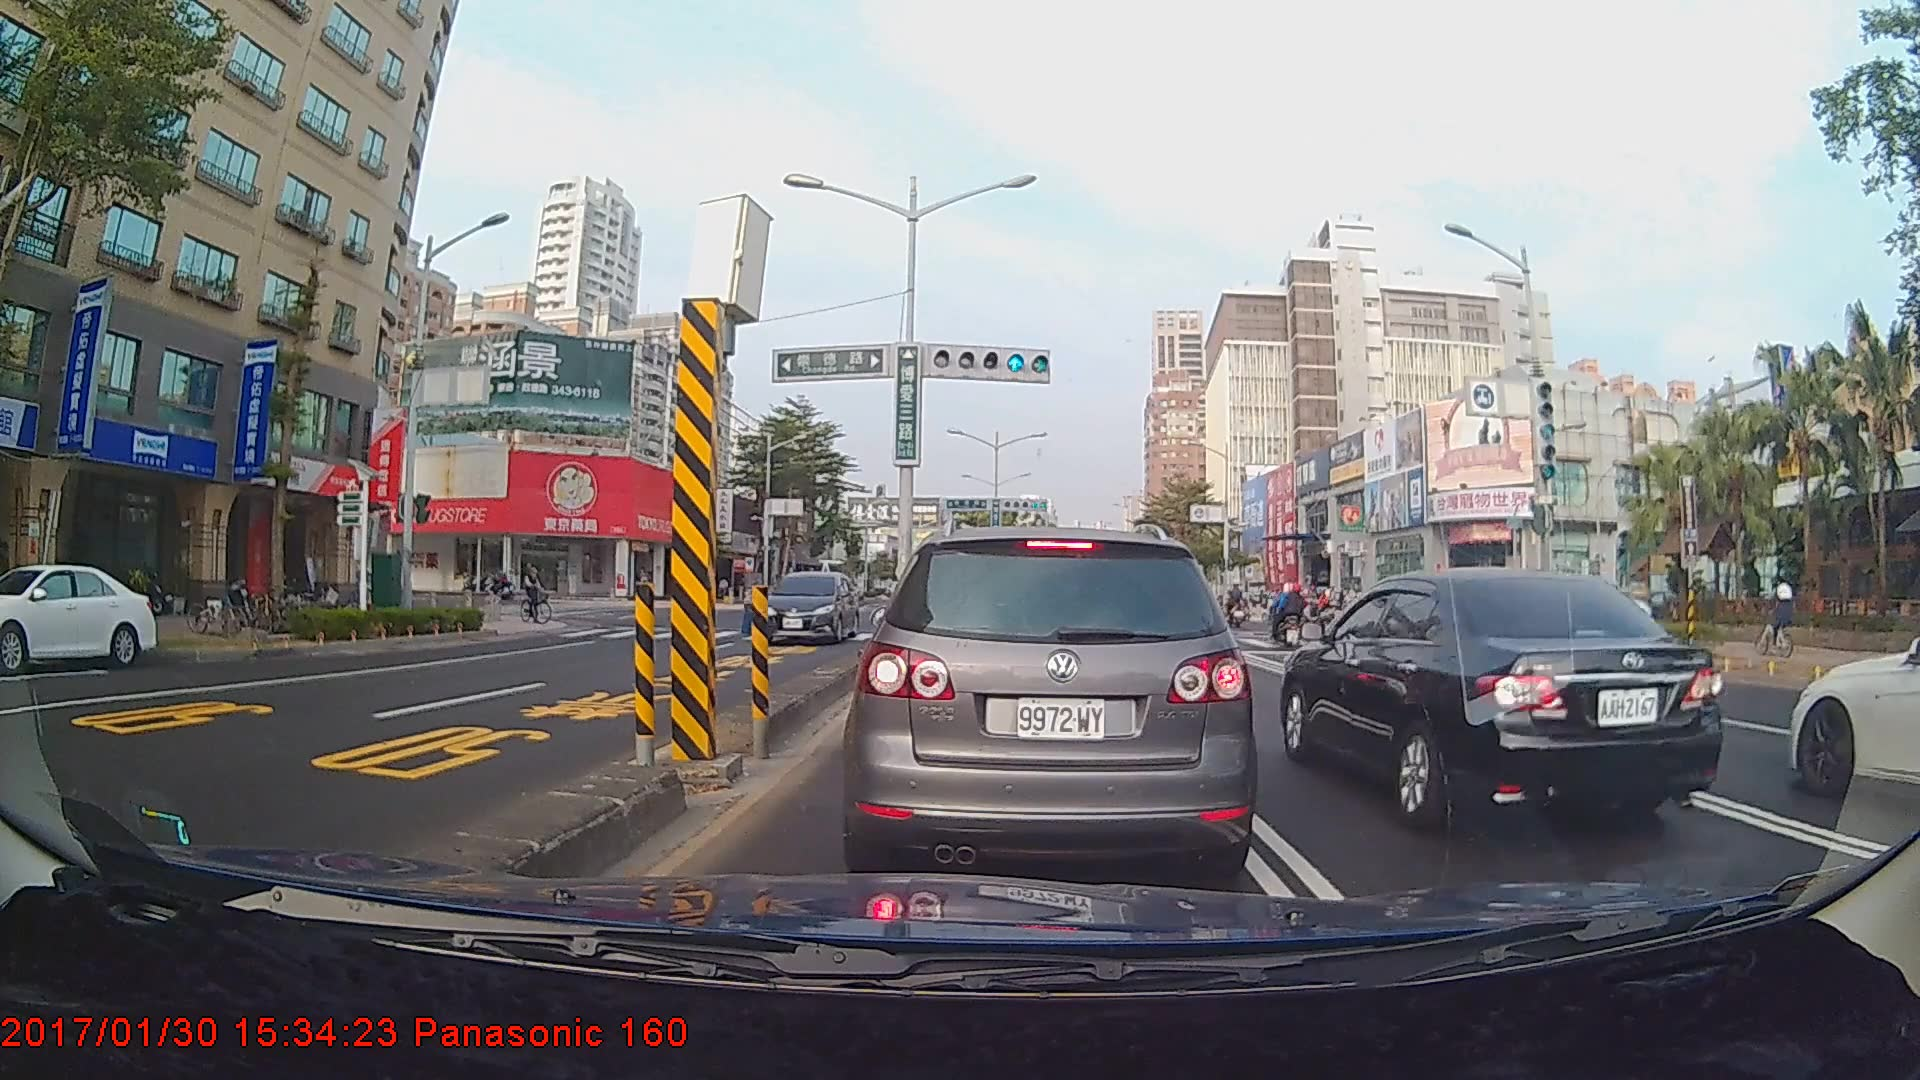pedestrian: (1605, 581, 1626, 640)
rider: (1755, 578, 1805, 655), (1266, 582, 1319, 651), (518, 559, 561, 629), (480, 564, 524, 603)
vehicle: (854, 523, 1254, 871), (1281, 564, 1726, 838), (1787, 579, 1920, 817), (0, 561, 157, 671), (755, 570, 862, 644)
